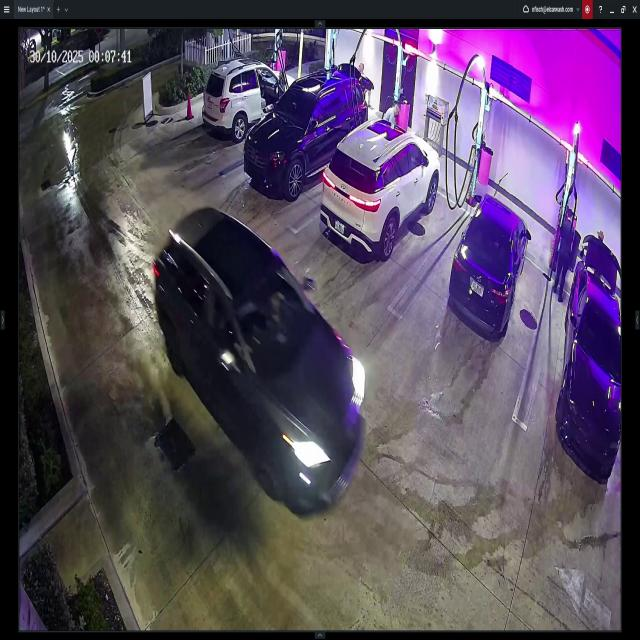Car: (152, 206, 367, 522), (320, 112, 440, 260), (245, 68, 368, 194), (559, 237, 621, 482), (449, 193, 529, 337), (202, 63, 296, 134)
